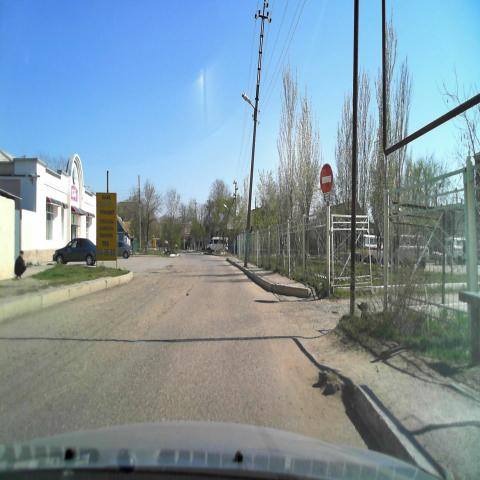3_1: (320, 164, 336, 197)
